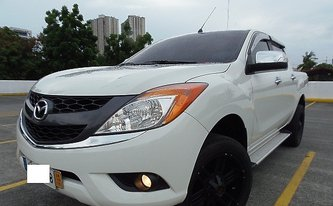pickup: (15, 28, 309, 206)
